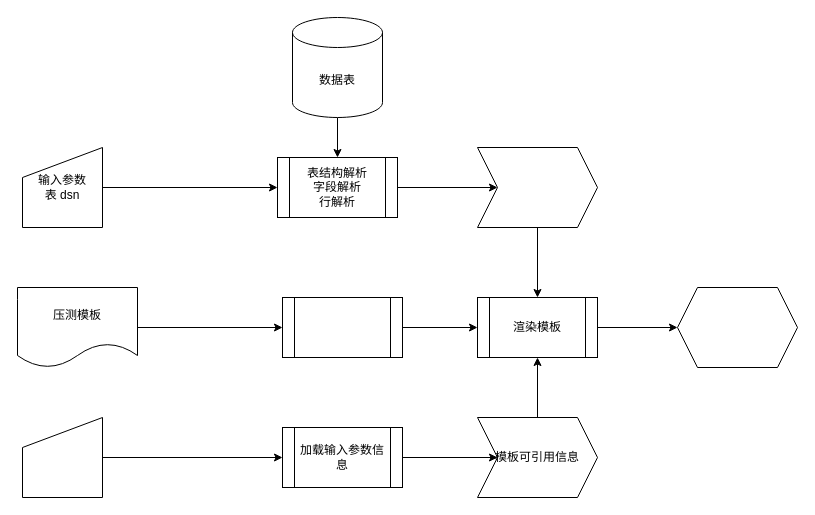
Some shapes in this 815 by 515 pixel diagram are drawn without their labels. The centre of each missing label's shape, as x and y in pixels:
"加载模板" goes at [342,327].
"表信息化为 模板可引用的 字段信息" goes at [537,187].
"输入参数 迭代次数" goes at [62,457].
"输入脚本文件" goes at [737,327].
